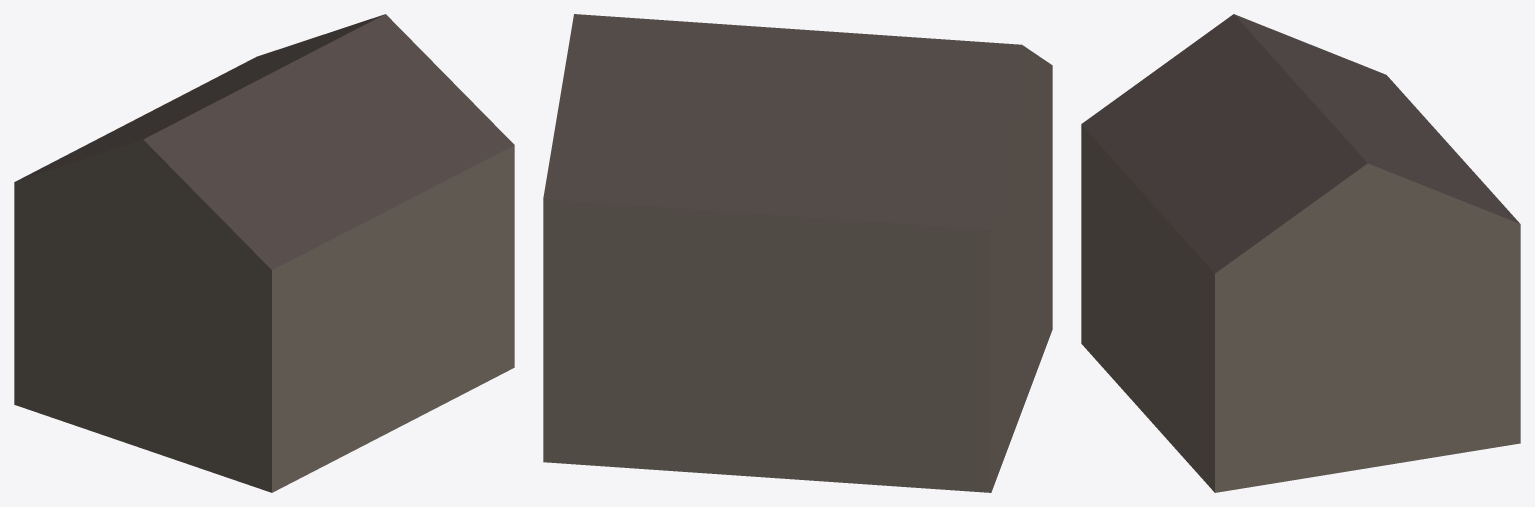
The picture shows the model from 3 angles, left to right: view 1: azimuth 30°, elevation 25°; view 2: azimuth 150°, elevation 25°; view 3: azimuth 270°, elevation 25°; orthographic projection. The views are drawn at different scales.
Visible parts, largest first — view 1: HP-w776800990; view 2: HP-w776800990; view 3: HP-w776800990.
Boxes of the visible parts, left/top/right/bottom form: HP-w776800990: left=14, top=14, right=514, bottom=492; HP-w776800990: left=543, top=14, right=1052, bottom=492; HP-w776800990: left=1081, top=14, right=1520, bottom=492.
Bounding box in the file's own units: 11.67 × 8.34 × 10.9.
